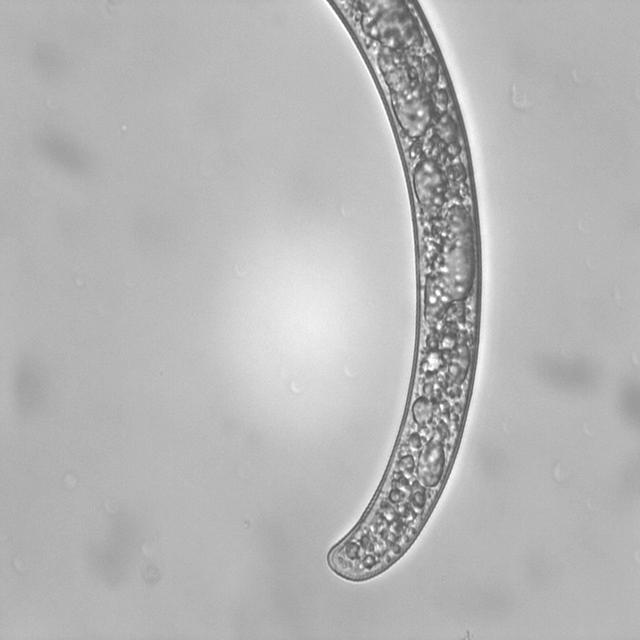Helicotylenchus: (296, 0, 490, 592)
